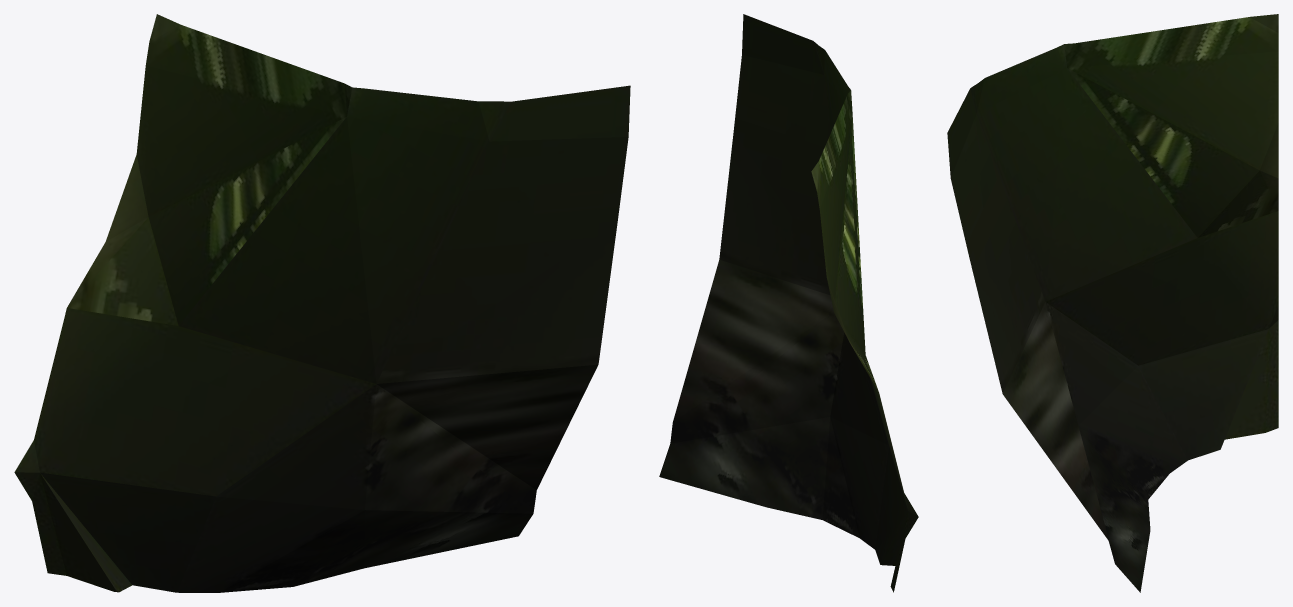
3 renders of one model, left to right at view 1: azimuth 30°, elevation 25°; view 2: azimuth 150°, elevation 25°; view 3: azimuth 270°, elevation 25°, orthographic. The views are drawn at different scales.
Bounding box in the file's own units: 0.6984 × 0.8374 × 0.5463.
3 materials, 3 textured.
